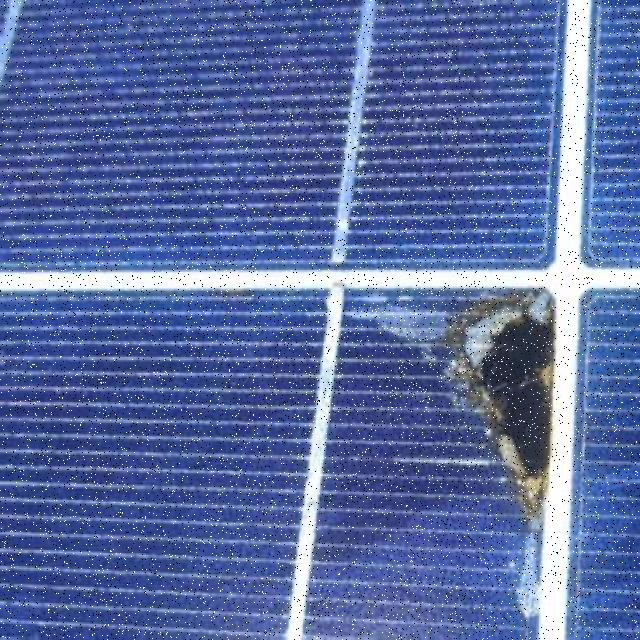electrical damage: (332, 294, 586, 619)
